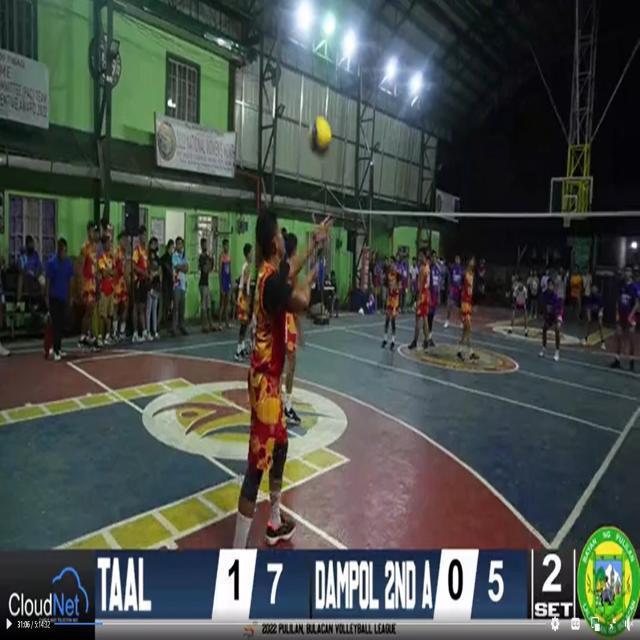volleyball: (308, 116, 331, 156)
